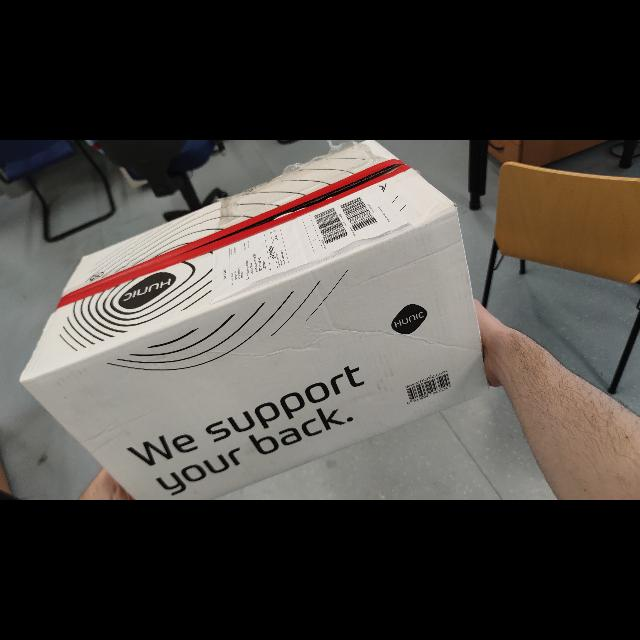cardboard_box: (22, 140, 534, 500)
